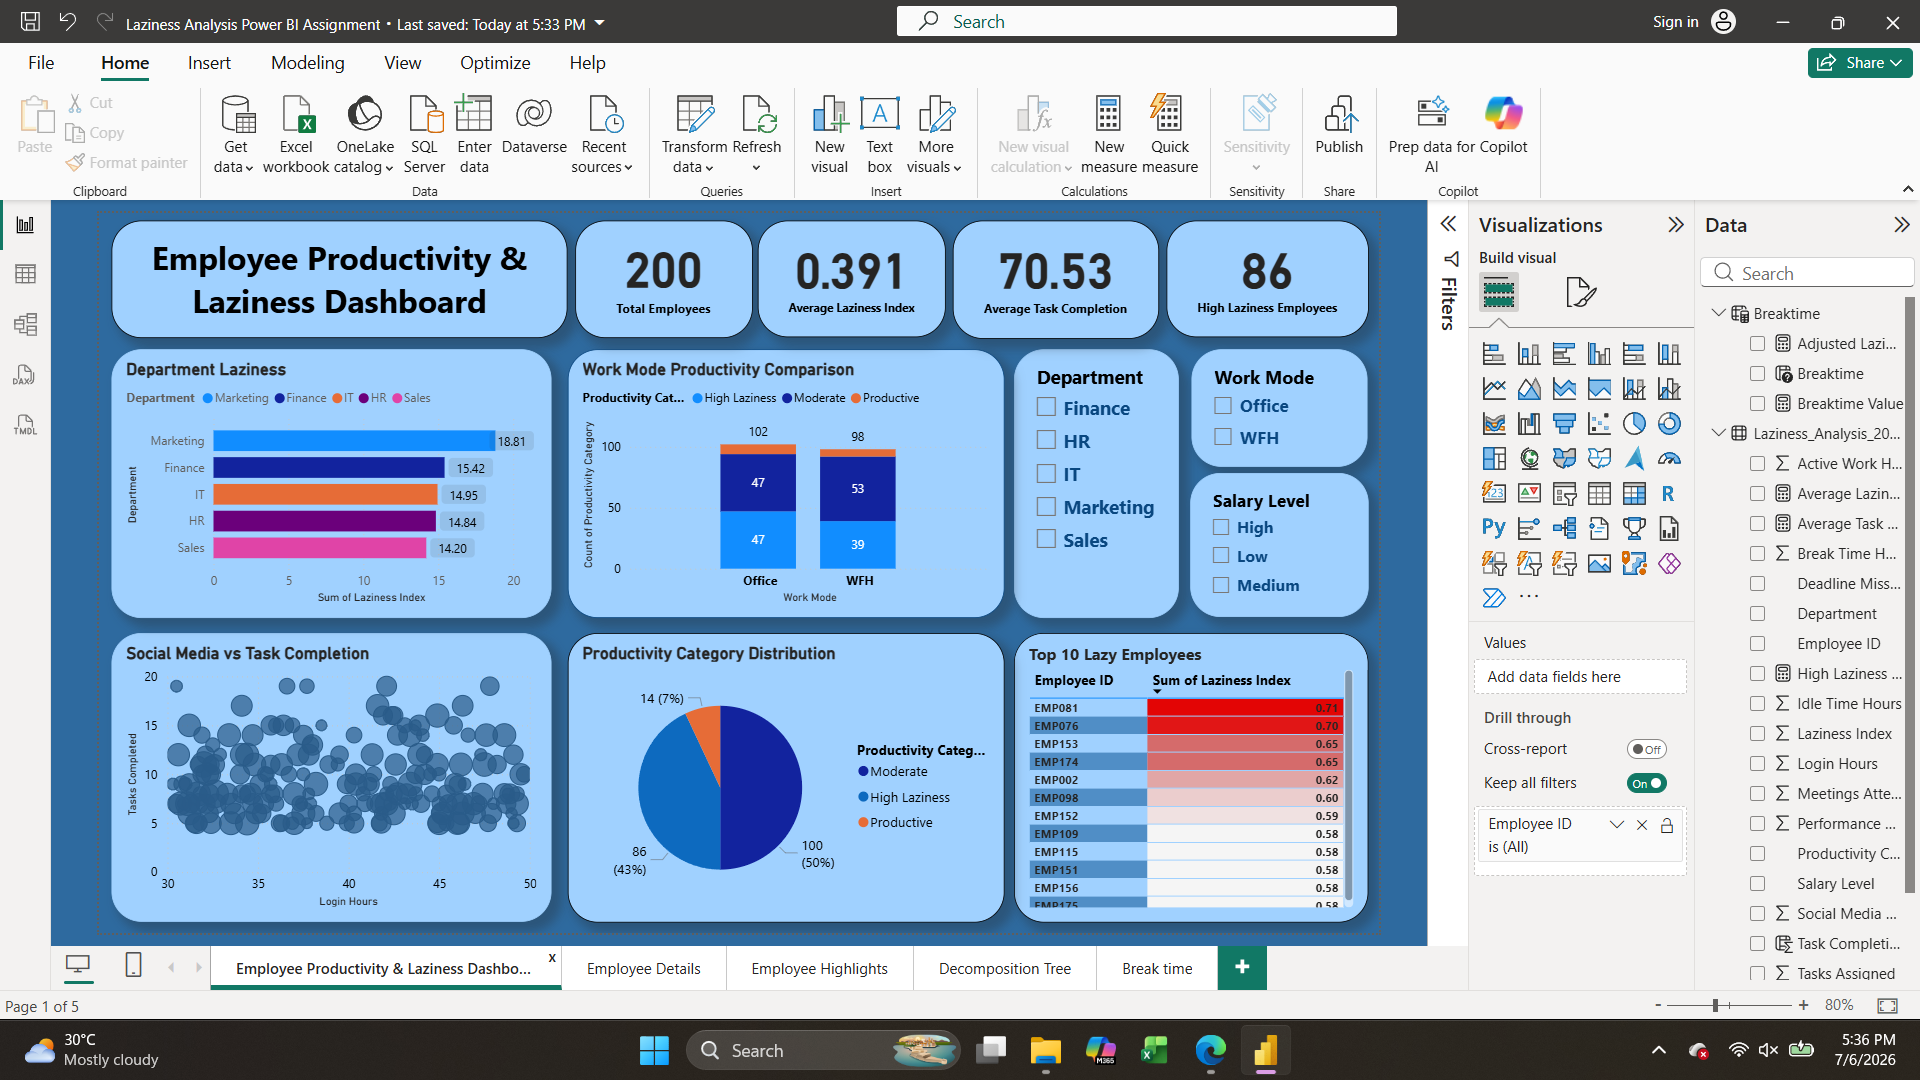

What the dashboard file says about the page in this screenshot:
{"tool":"powerbi","page":{"name":"Employee Productivity & Laziness Dashboard","canvas":[1280,720],"ordinal":0},"visuals":[{"type":"textbox","box":[12.5,7.5,456.2,117.5],"z":2000},{"type":"slicer","fields":{"Values":["Laziness_Analysis_200_Records.Department"]},"box":[915,136.2,165,268.8],"z":3000},{"type":"tableEx","title":"Top 10 Lazy Employees","fields":{"Values":["Laziness_Analysis_200_Records.Employee_ID","Sum(Laziness_Analysis_200_Records.Laziness_Index)"]},"box":[914.7,419.4,354.6,289.8],"z":4000},{"type":"scatterChart","title":"Social Media vs Task Completion ","fields":{"X":["Sum(Laziness_Analysis_200_Records.Login_Hours)"],"Y":["Sum(Laziness_Analysis_200_Records.Tasks_Completed)"],"Size":["Sum(Laziness_Analysis_200_Records.Social_Media_Usage_Hours)"]},"box":[12.5,420,440,288.8],"z":5000},{"type":"barChart","title":"Department Laziness","fields":{"Y":["Sum(Laziness_Analysis_200_Records.Laziness_Index)"],"Category":["Laziness_Analysis_200_Records.Department"],"Series":["Laziness_Analysis_200_Records.Department"]},"box":[12.2,135.7,440.2,269],"z":6000},{"type":"columnChart","title":"Work Mode Productivity Comparison","fields":{"Category":["Laziness_Analysis_200_Records.Work_Mode"],"Y":["CountNonNull(Laziness_Analysis_200_Records.Productivity Category)"],"Series":["Laziness_Analysis_200_Records.Productivity Category"]},"box":[468.3,135.7,436.6,269],"z":7000},{"type":"pieChart","title":"Productivity Category Distribution","fields":{"Category":["Laziness_Analysis_200_Records.Productivity Category"],"Y":["CountNonNull(Laziness_Analysis_200_Records.Productivity Category)"]},"box":[468.3,419.4,436.6,289.8],"z":8000},{"type":"cardVisual","title":"Total Employees","fields":{"Data":["Laziness_Analysis_200_Records.Total Employees"]},"box":[476.2,7.5,177.5,117.5],"z":9000},{"type":"cardVisual","title":"Total Employees","fields":{"Data":["Laziness_Analysis_200_Records.Average Laziness Index"]},"box":[659,8,188,117],"z":10000},{"type":"cardVisual","title":"Total Employees","fields":{"Data":["Laziness_Analysis_200_Records.Average Task Completion"]},"box":[854,7,206,118],"z":11000},{"type":"cardVisual","title":"Total Employees","fields":{"Data":["Laziness_Analysis_200_Records.High Laziness Employees"]},"box":[1067,7,202,117],"z":12000},{"type":"slicer","fields":{"Values":["Laziness_Analysis_200_Records.Work_Mode"]},"box":[1092,135.7,176.1,117.4],"z":13000},{"type":"slicer","fields":{"Values":["Laziness_Analysis_200_Records.Salary_Level"]},"box":[1090.8,260.5,178.5,144.3],"z":14000}]}

Visuals, with their boxes on the page's 1280x720 design canvas (x1, y1, x2, y2). These are canvas units, not pixel positions in the 1920x1080 screenshot, which may show the page scaled, cropped or inside an application window:
textbox: detection(12, 8, 469, 125)
slicer - Laziness_Analysis_200_Records.Department: detection(915, 136, 1080, 405)
"Top 10 Lazy Employees" tableEx: detection(915, 419, 1269, 709)
"Social Media vs Task Completion " scatterChart: detection(12, 420, 452, 709)
"Department Laziness" barChart: detection(12, 136, 452, 405)
"Work Mode Productivity Comparison" columnChart: detection(468, 136, 905, 405)
"Productivity Category Distribution" pieChart: detection(468, 419, 905, 709)
"Total Employees" cardVisual: detection(476, 8, 654, 125)
"Total Employees" cardVisual: detection(659, 8, 847, 125)
"Total Employees" cardVisual: detection(854, 7, 1060, 125)
"Total Employees" cardVisual: detection(1067, 7, 1269, 124)
slicer - Laziness_Analysis_200_Records.Work_Mode: detection(1092, 136, 1268, 253)
slicer - Laziness_Analysis_200_Records.Salary_Level: detection(1091, 260, 1269, 405)
